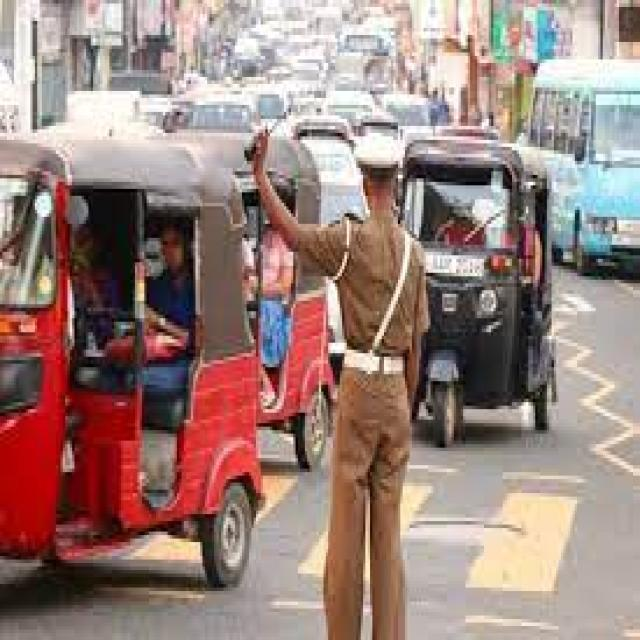bus: (0, 140, 258, 588), (179, 133, 363, 469), (403, 136, 549, 448), (531, 59, 638, 276)
person: (251, 129, 426, 640), (142, 213, 193, 454), (261, 224, 291, 409)
